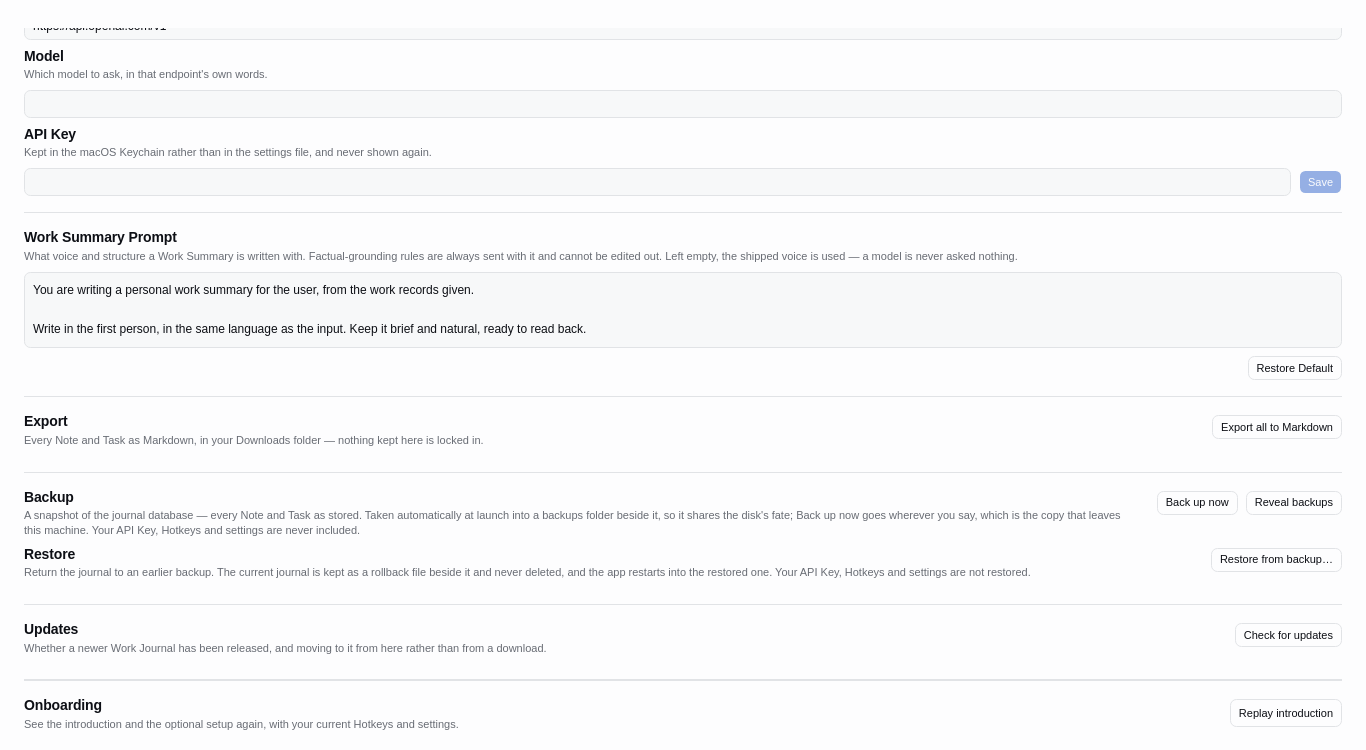
Test: Export › reports through a toast and leaves the last export announced
The image size is (1366, 750).
(page scrolled)
Click the button "Export all to Markdown" at (1277, 427), box [1212, 415, 1342, 439]
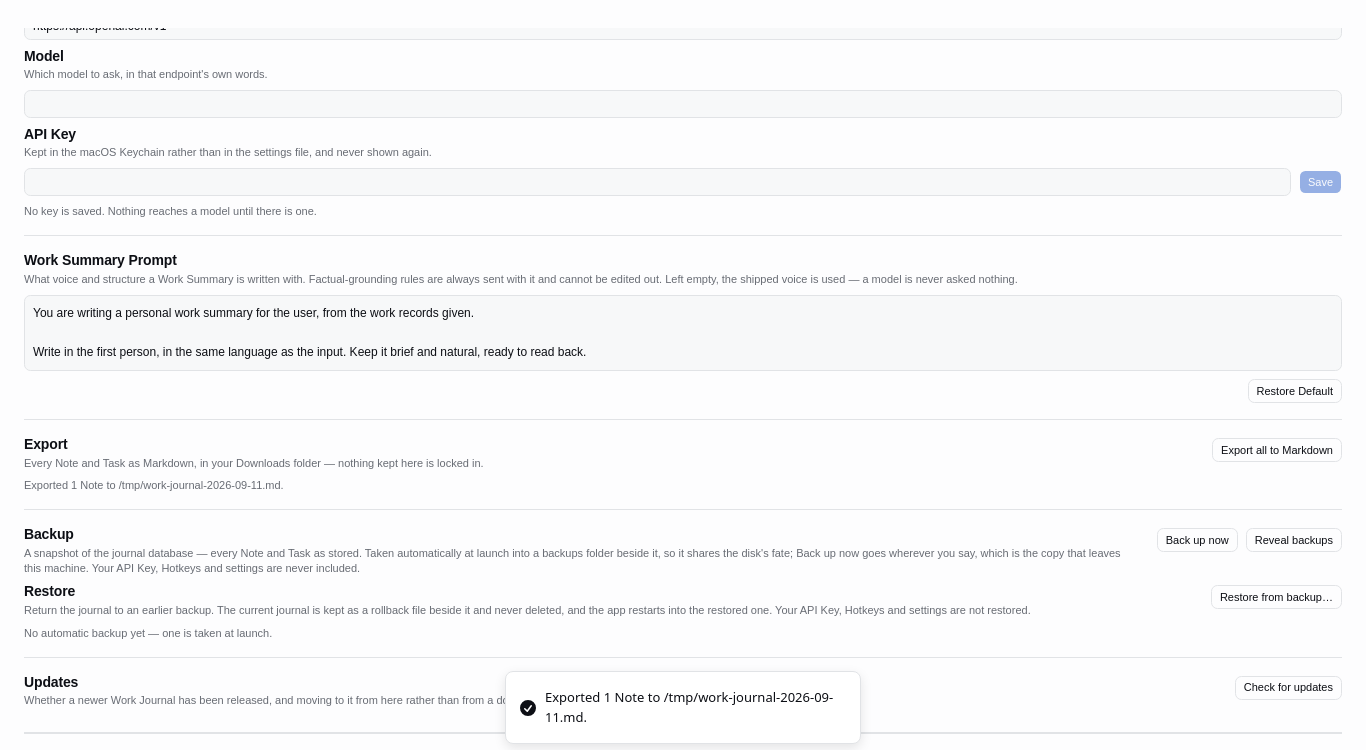
Now the message "Exported 1 Note to /tmp/work-journal-2026-09-11.md." is shown, box [24, 479, 284, 491]
